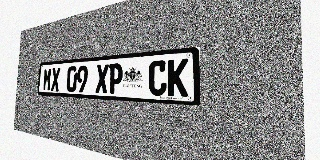0: (66, 66, 77, 92)
9: (76, 65, 88, 93)
C: (148, 60, 167, 96)
K: (167, 58, 189, 97)
M: (43, 68, 52, 91)
P: (108, 63, 123, 94)
X: (95, 64, 109, 93), (51, 67, 60, 91)
